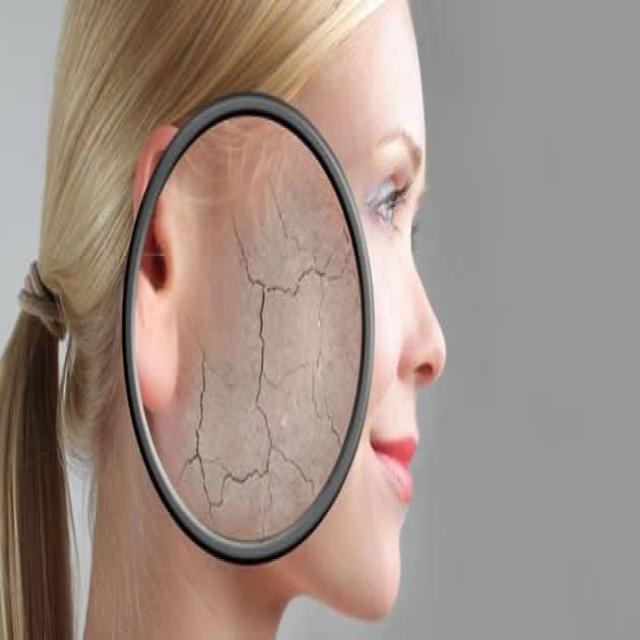Dry-Skin: (178, 185, 363, 542)
